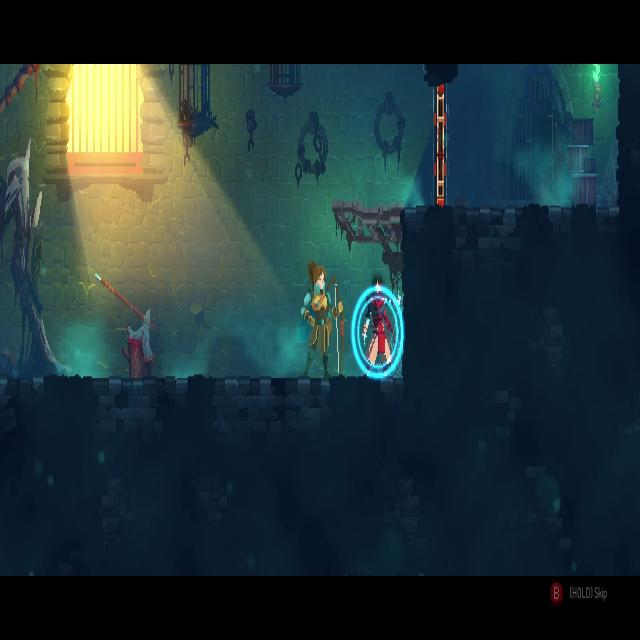agents: (358, 288, 397, 380)
